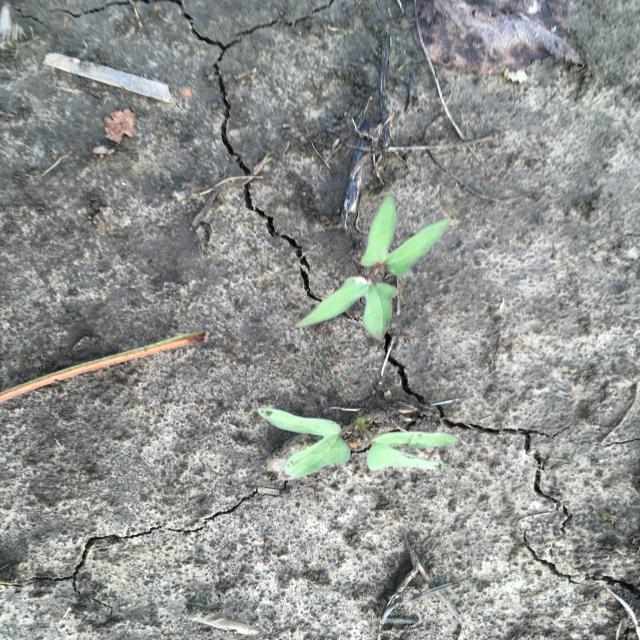MorningGlory: (292, 196, 456, 342), (252, 405, 464, 479)
